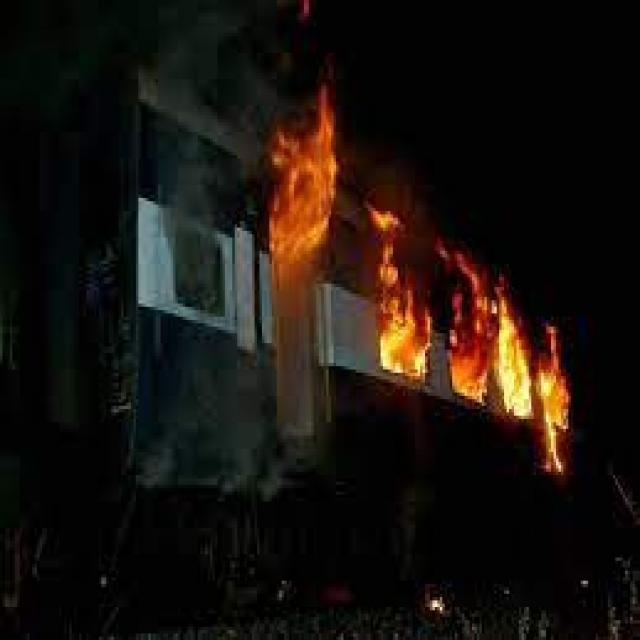fire: (432, 244, 574, 482), (269, 89, 341, 277), (368, 202, 430, 380)
smoke: (138, 330, 292, 495), (143, 96, 225, 320)
